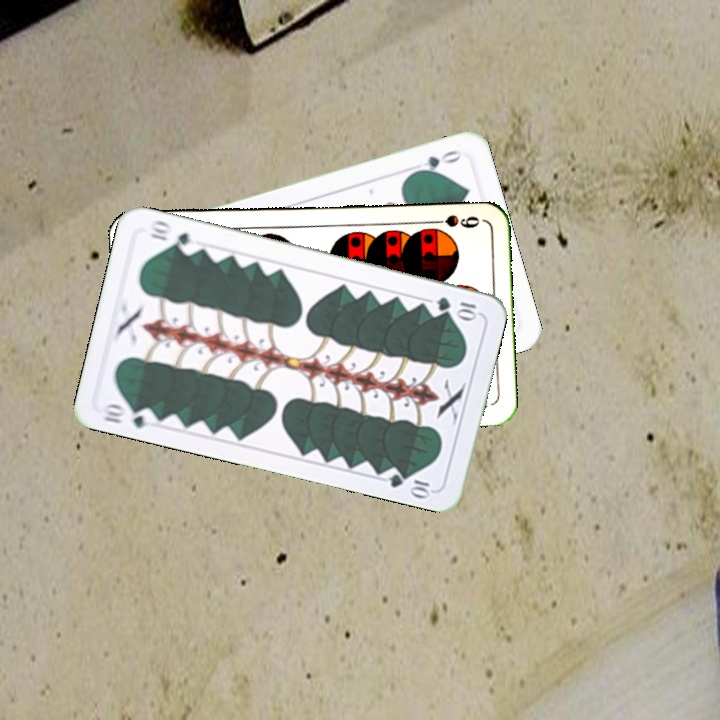G10: (97, 399, 158, 431), (432, 292, 481, 321)
GO: (408, 146, 464, 177)
S9: (424, 211, 482, 231)
